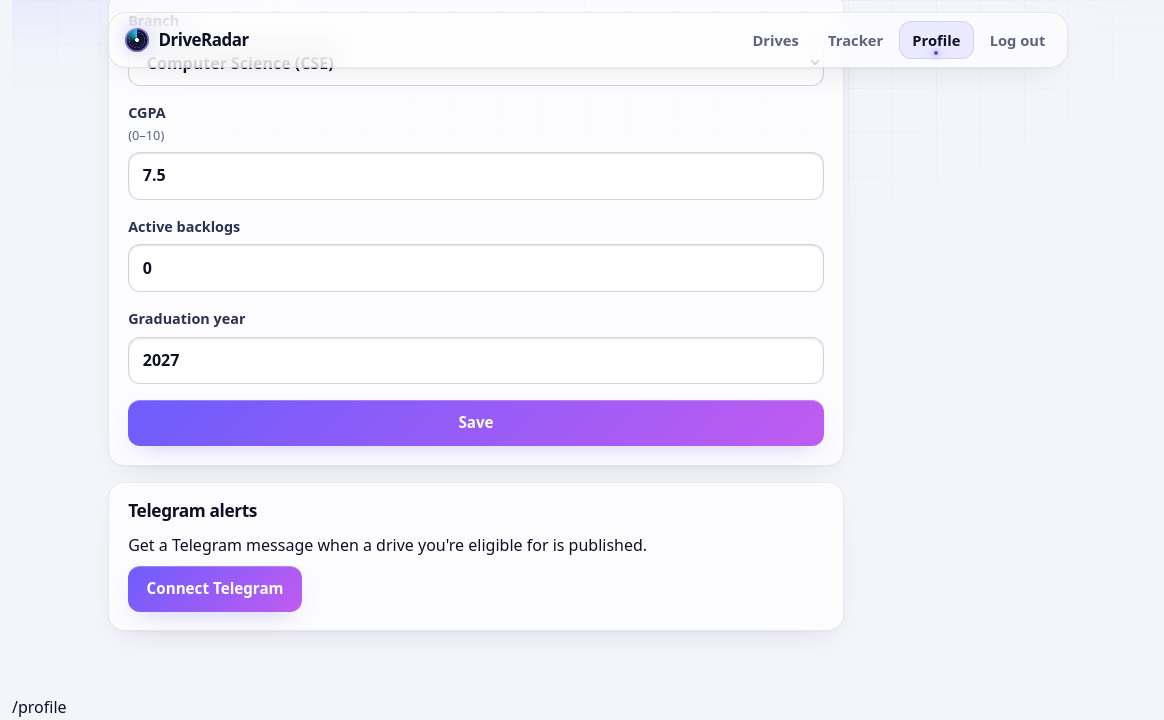
Test: Telegram card › shows the server's error when a link can't be made
(page scrolled)
Click the button "Connect Telegram".
click(215, 589)  # box [128,566,302,612]
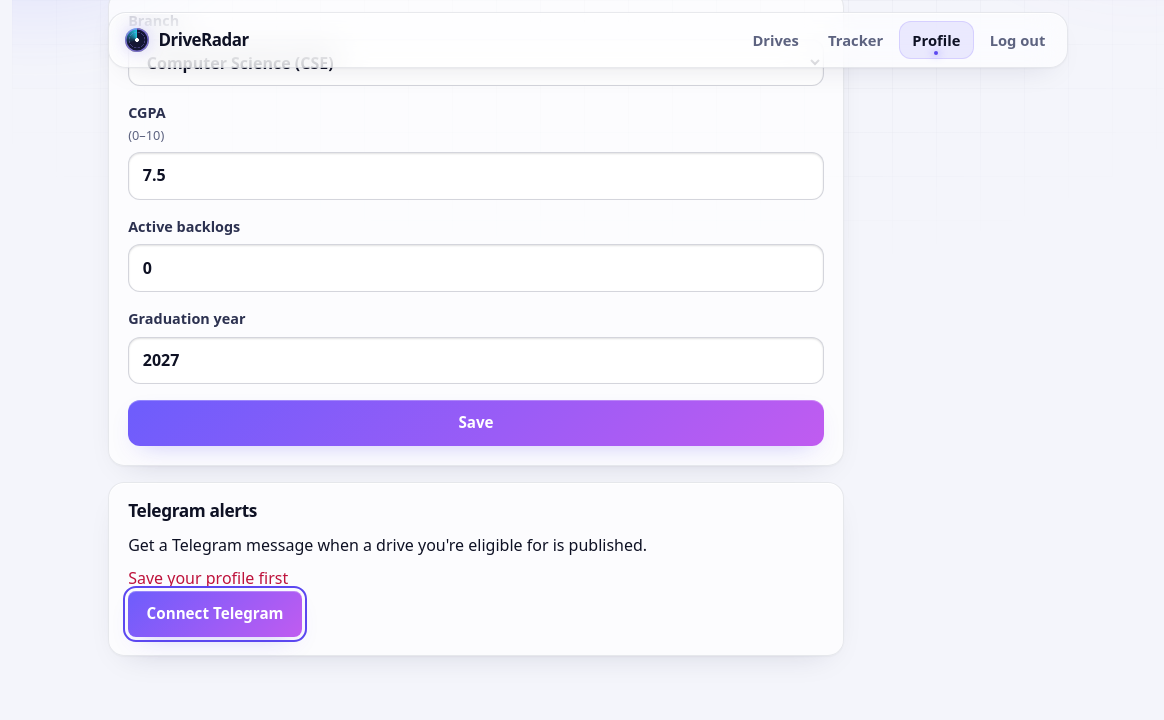
Result: the message reads "Save your profile first" at [128,567,288,589]
